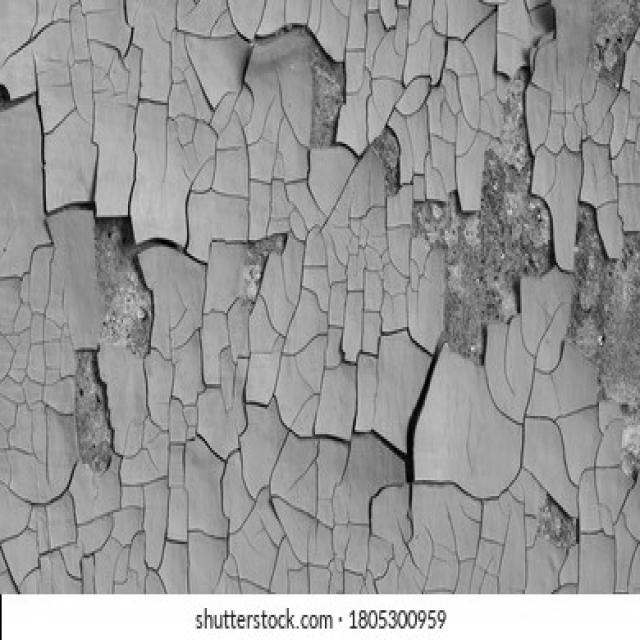peeling paint: (0, 0, 640, 590)
